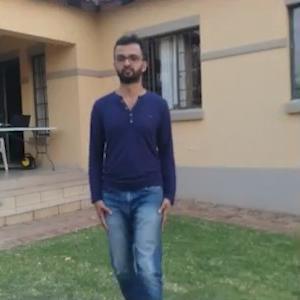follow: (90, 33, 175, 276)
